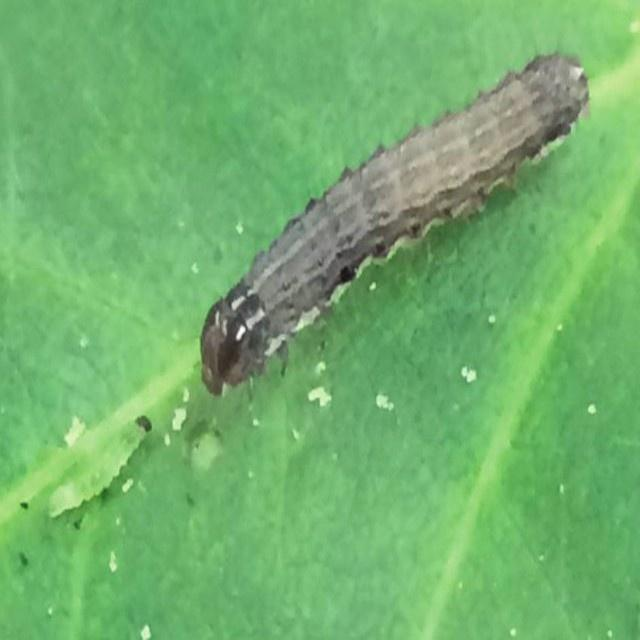gusano_cogollero: (204, 48, 588, 395)
